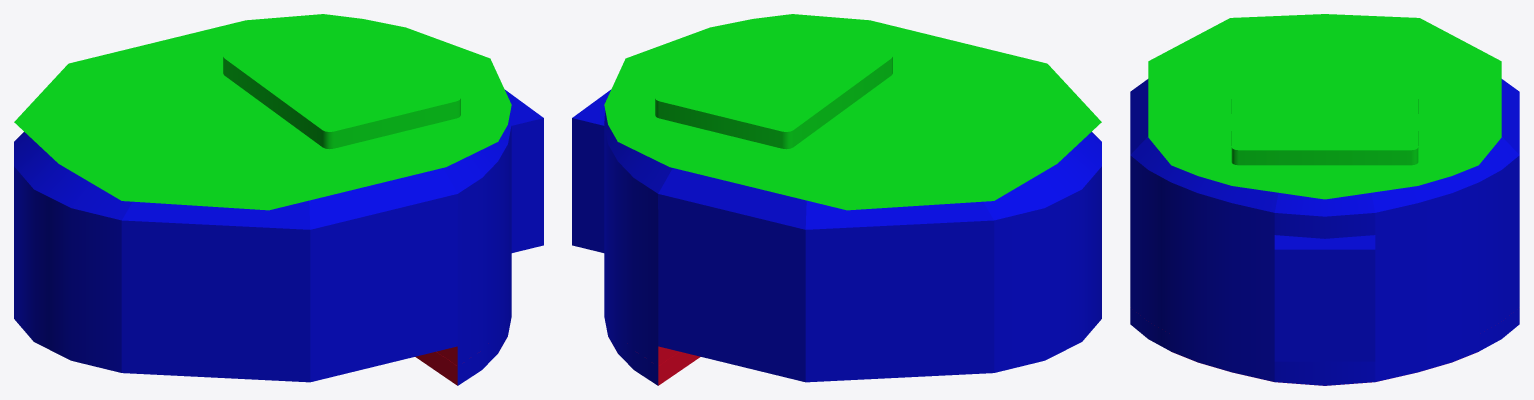
Rendered from lounge_room.fbx.
The picture shows the model from 3 angles, left to right: view 1: azimuth 30°, elevation 25°; view 2: azimuth 150°, elevation 25°; view 3: azimuth 270°, elevation 25°; orthographic projection. The views are drawn at different scales.
Visible parts, largest first — view 1: LoungeWalls.004, LoungeWalls, LoungeWalls.005, LoungeWalls.006, LoungeFloor.001; view 2: LoungeWalls.004, LoungeWalls, LoungeWalls.005, LoungeWalls.006, LoungeFloor.001; view 3: LoungeWalls.004, LoungeWalls, LoungeWalls.006, LoungeWalls.005.
Part boxes in pixels (x1=…): LoungeWalls.004: x1=14, y1=14, x2=511, y2=210; LoungeWalls: x1=14, y1=101, x2=511, y2=385; LoungeWalls.005: x1=309, y1=168, x2=457, y2=382; LoungeWalls.006: x1=504, y1=89, x2=543, y2=252; LoungeFloor.001: x1=415, y1=346, x2=457, y2=385; LoungeWalls.004: x1=604, y1=14, x2=1101, y2=210; LoungeWalls: x1=604, y1=101, x2=1101, y2=385; LoungeWalls.005: x1=658, y1=168, x2=806, y2=382; LoungeWalls.006: x1=572, y1=89, x2=611, y2=252; LoungeFloor.001: x1=658, y1=346, x2=700, y2=385; LoungeWalls.004: x1=1148, y1=14, x2=1501, y2=199; LoungeWalls: x1=1130, y1=136, x2=1519, y2=381; LoungeWalls.006: x1=1274, y1=193, x2=1375, y2=385; LoungeWalls.005: x1=1130, y1=79, x2=1519, y2=154.
Bounding box in the file's own units: 993 × 451 × 790.
